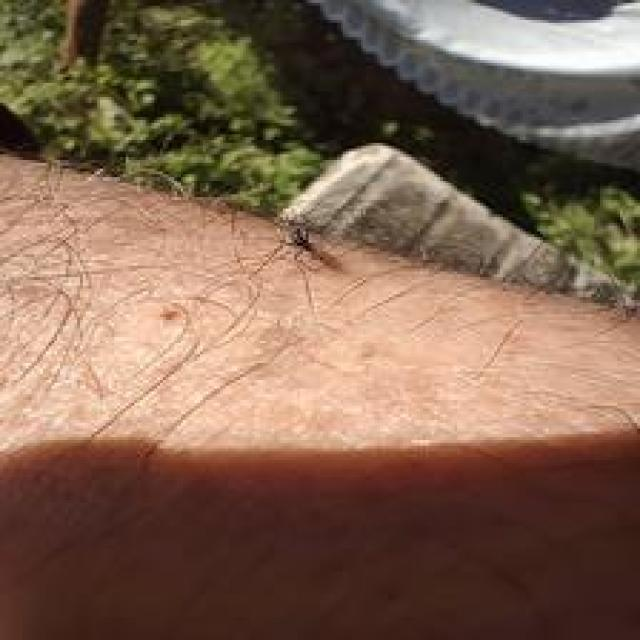Aedes albopictus: (48, 0, 640, 180)
